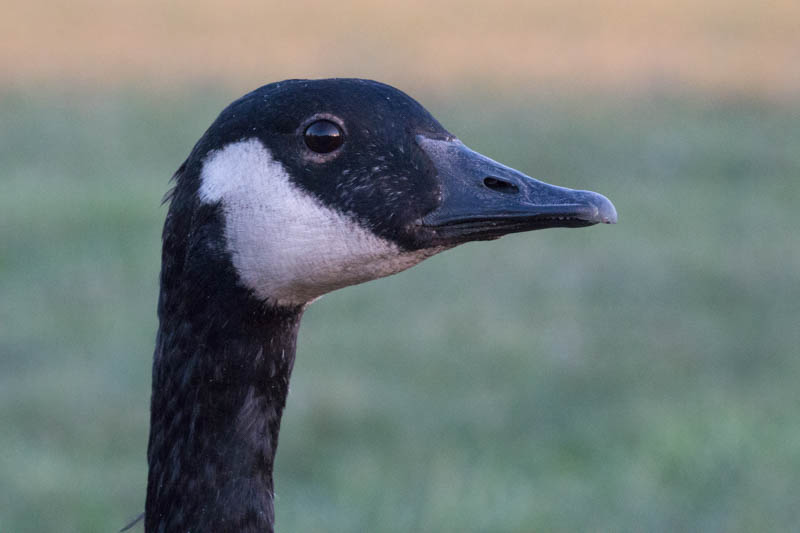goose-head: (160, 76, 620, 312)
